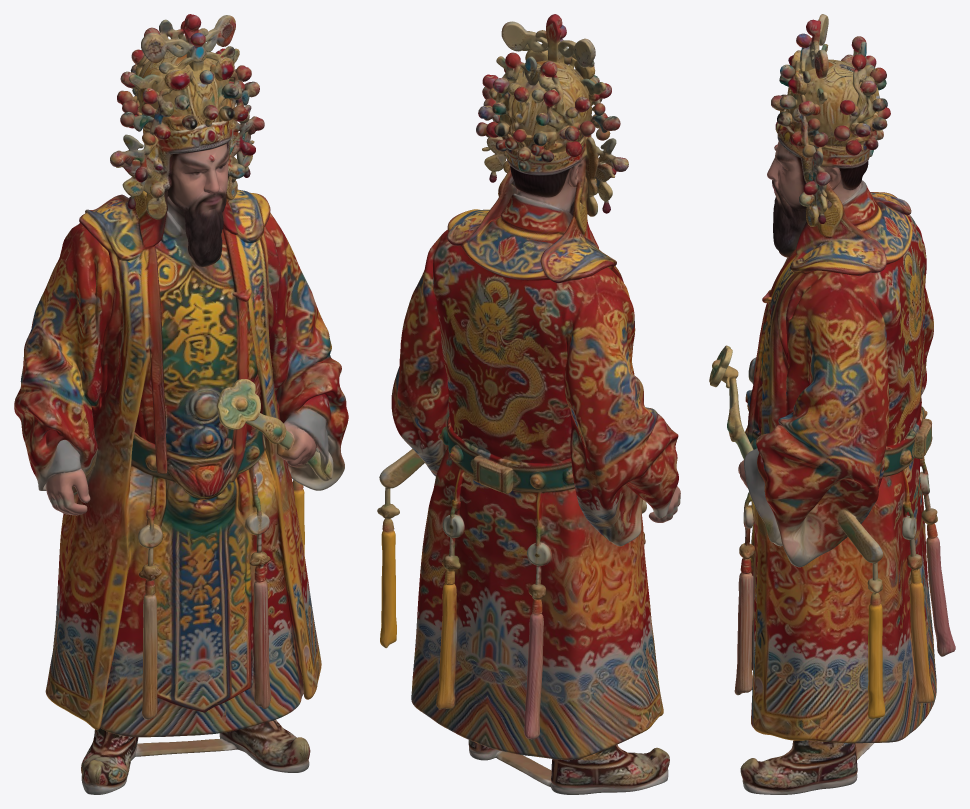
The model's file is P10_Shenjiang-v1.glb.
The picture shows the model from 3 angles, left to right: view 1: azimuth 30°, elevation 25°; view 2: azimuth 150°, elevation 25°; view 3: azimuth 270°, elevation 25°; orthographic projection. The views are drawn at different scales.
Visible parts, largest first — view 1: tripo_node_db9409ce-8cd2-4e99-b4e1-0e8d2bc6dfe6; view 2: tripo_node_db9409ce-8cd2-4e99-b4e1-0e8d2bc6dfe6; view 3: tripo_node_db9409ce-8cd2-4e99-b4e1-0e8d2bc6dfe6.
Boxes of the visible parts, <box> form: tripo_node_db9409ce-8cd2-4e99-b4e1-0e8d2bc6dfe6: <box>14,14,348,794</box>; tripo_node_db9409ce-8cd2-4e99-b4e1-0e8d2bc6dfe6: <box>377,14,680,794</box>; tripo_node_db9409ce-8cd2-4e99-b4e1-0e8d2bc6dfe6: <box>709,14,955,794</box>.
Size of the model in its own units: 0.4039 by 1 by 0.3045.
Materials: 1 (1 with a texture image).
